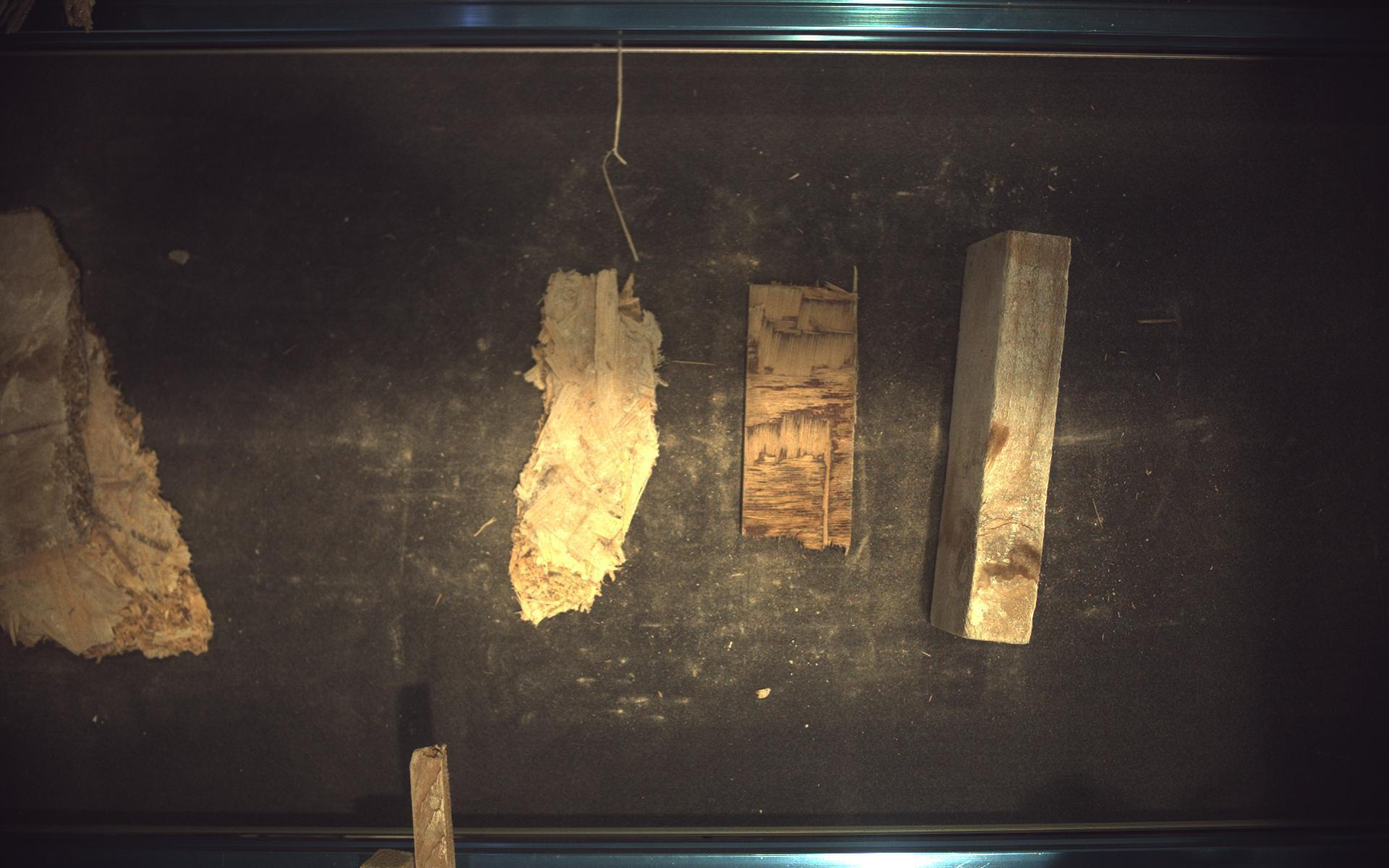wood: (933, 230, 1074, 644), (509, 269, 663, 626), (744, 269, 860, 550)
